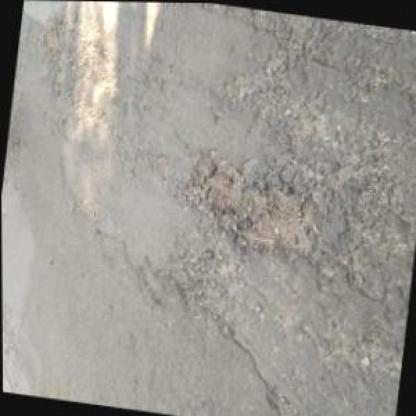pothole: (176, 140, 329, 264), (168, 242, 229, 310)
